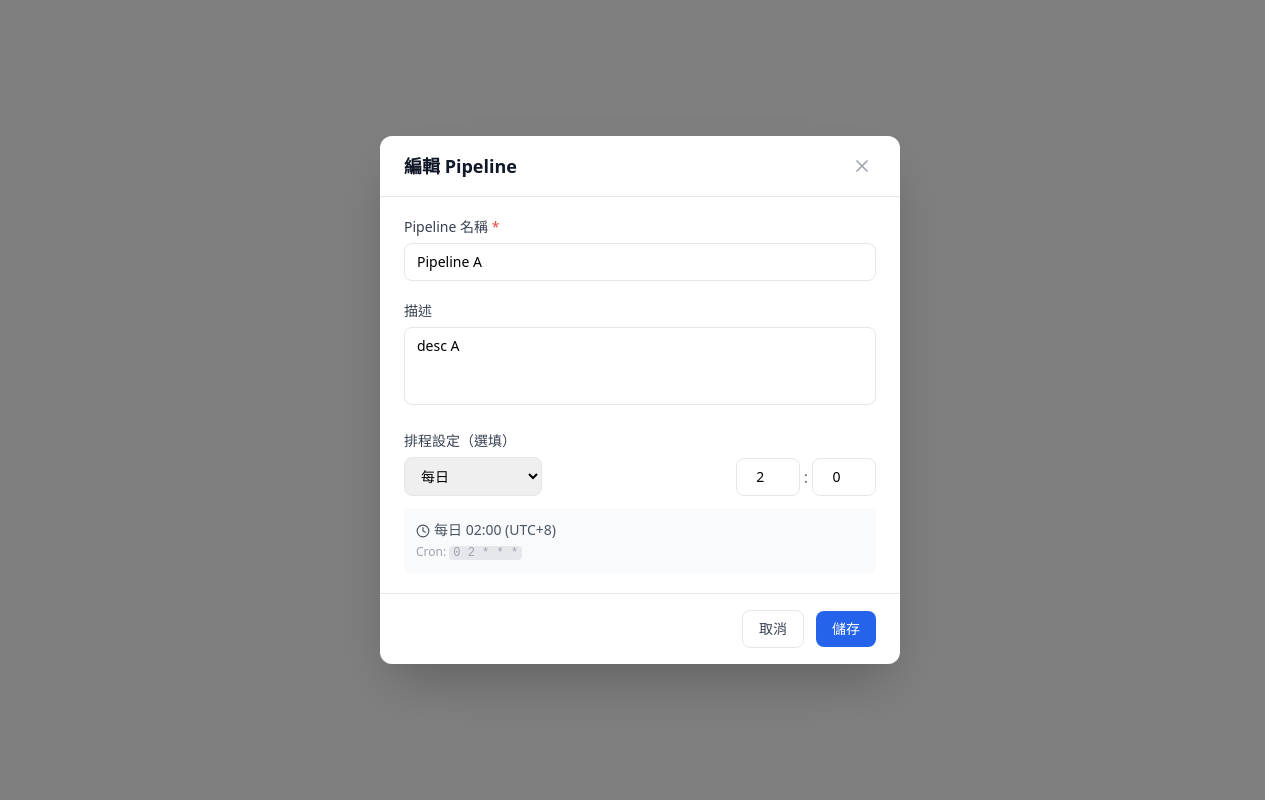
Scenario: EditPipelineModal (F093) › maps PIPELINE_RUNNING to a running error message
Click the button with test id "edit-pipeline-submit": coordinates (846, 629) left=816, top=611, right=876, bottom=647
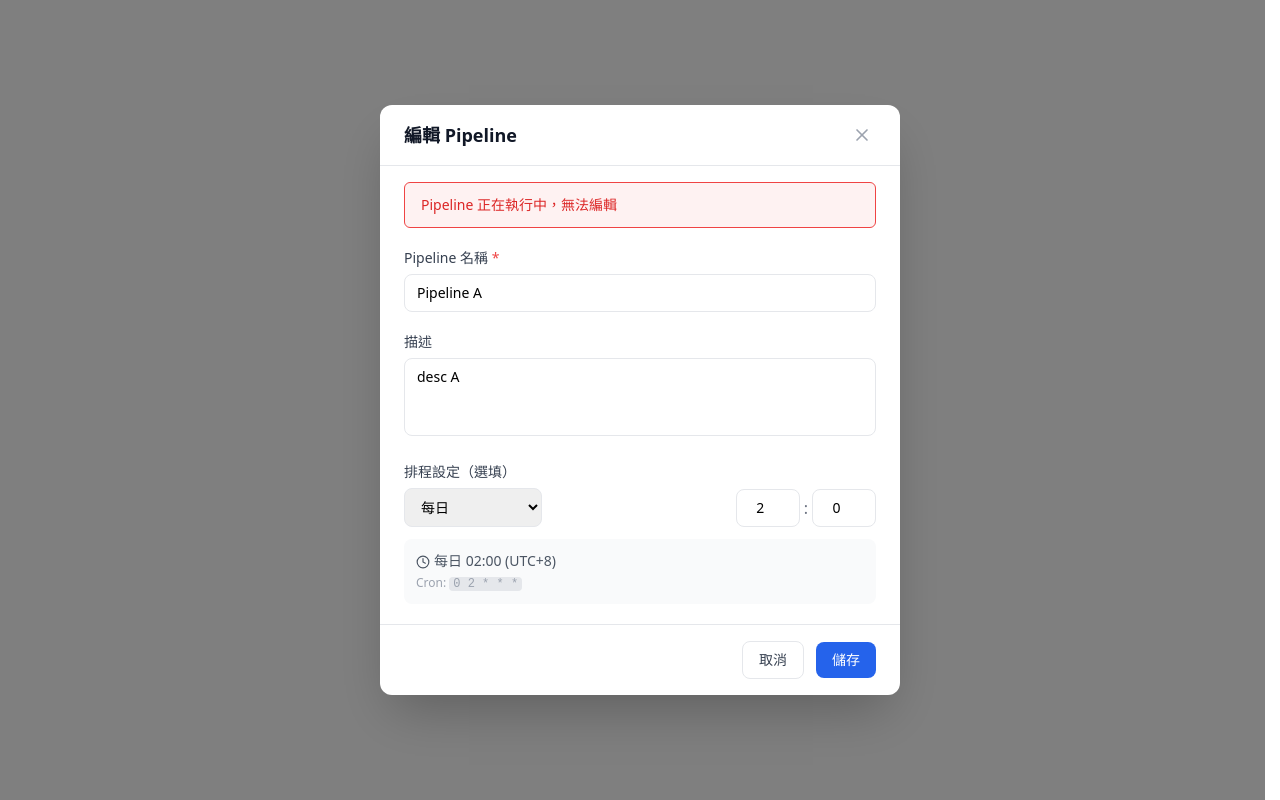
Expected: the text "Pipeline 正在執行中，無法編輯" is shown, left=404, top=182, right=876, bottom=228
